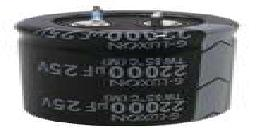Electrolytic-Capacitor: (16, 5, 244, 128)
